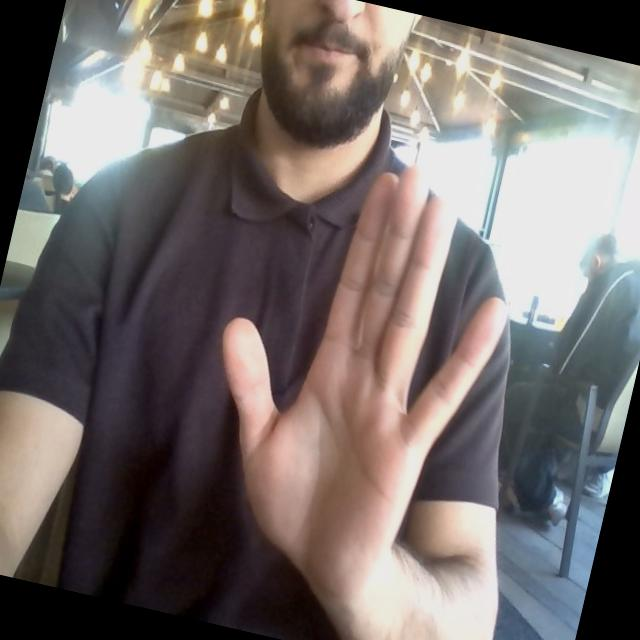Hand: (223, 168, 505, 601)
